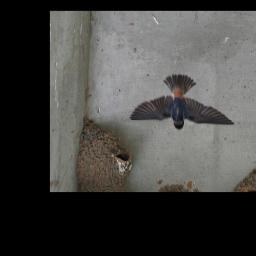Swallow: (128, 74, 238, 132)
